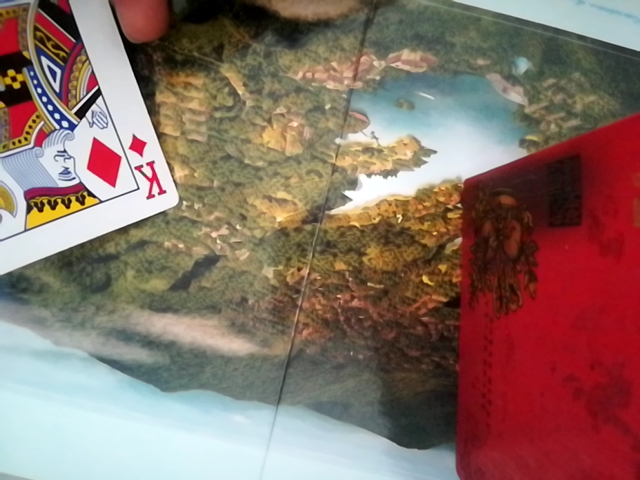fk k: (0, 0, 180, 287)
